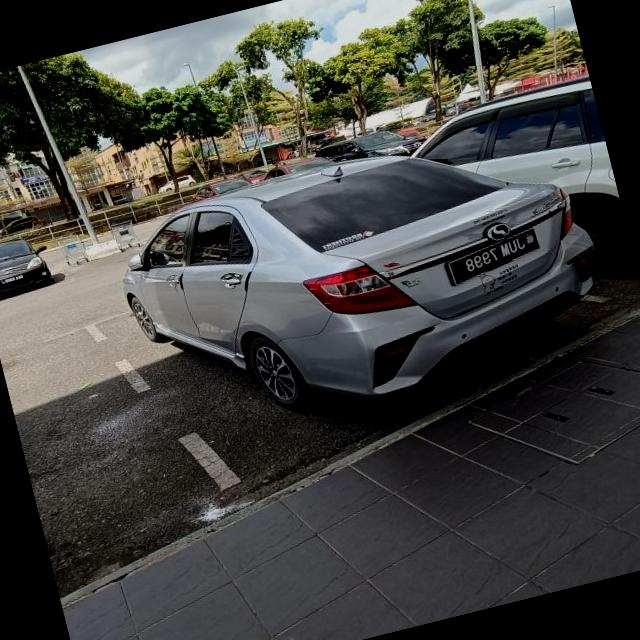PeroduaBezza: (104, 103, 619, 454)
